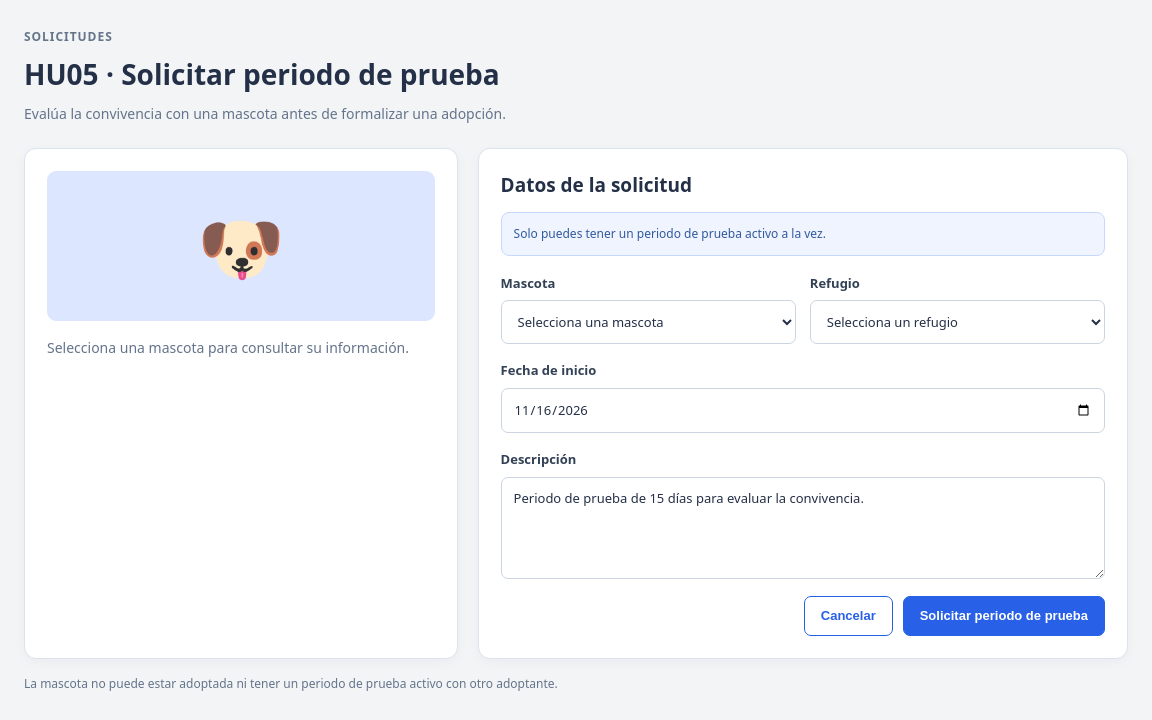
TrialRequestPage › muestra un error si no hay un usuario adoptante configurado
Expected: the heading "Datos de la solicitud" is shown, [501, 172, 692, 198]
Select "Rocky" in the dropdown labelled "Mascota" at (648, 322), box [501, 300, 796, 344]
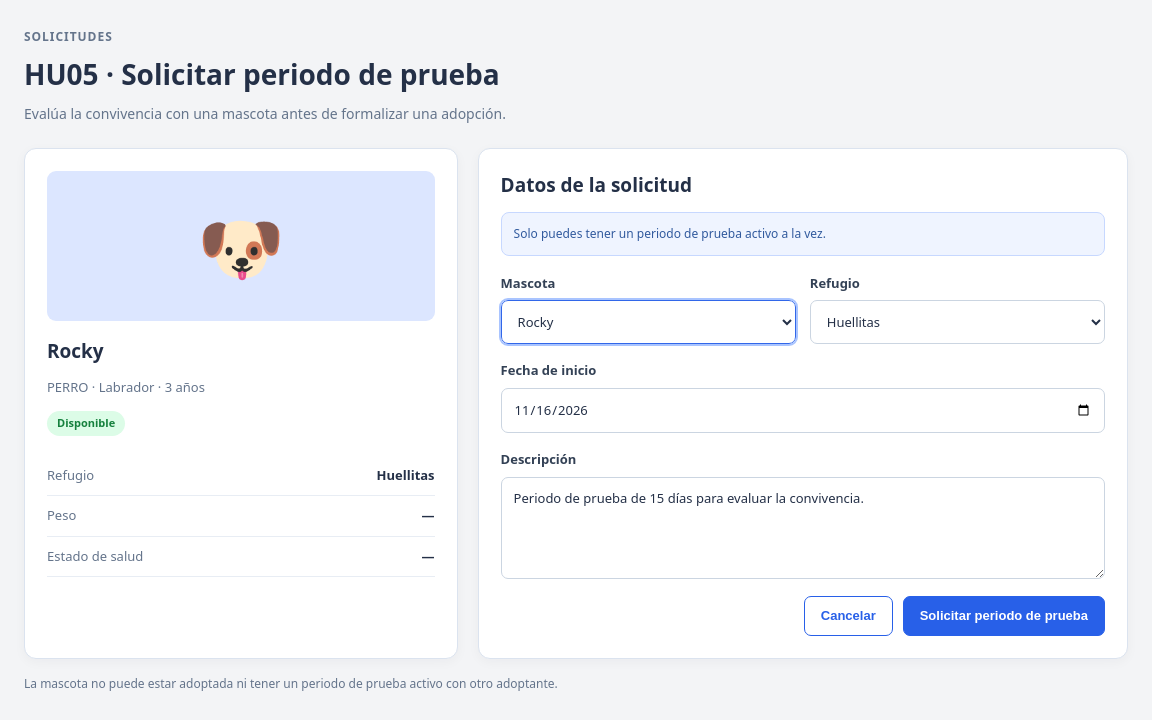
Select "Huellitas" in the dropdown labelled "Refugio" at (957, 322), box [810, 300, 1105, 344]
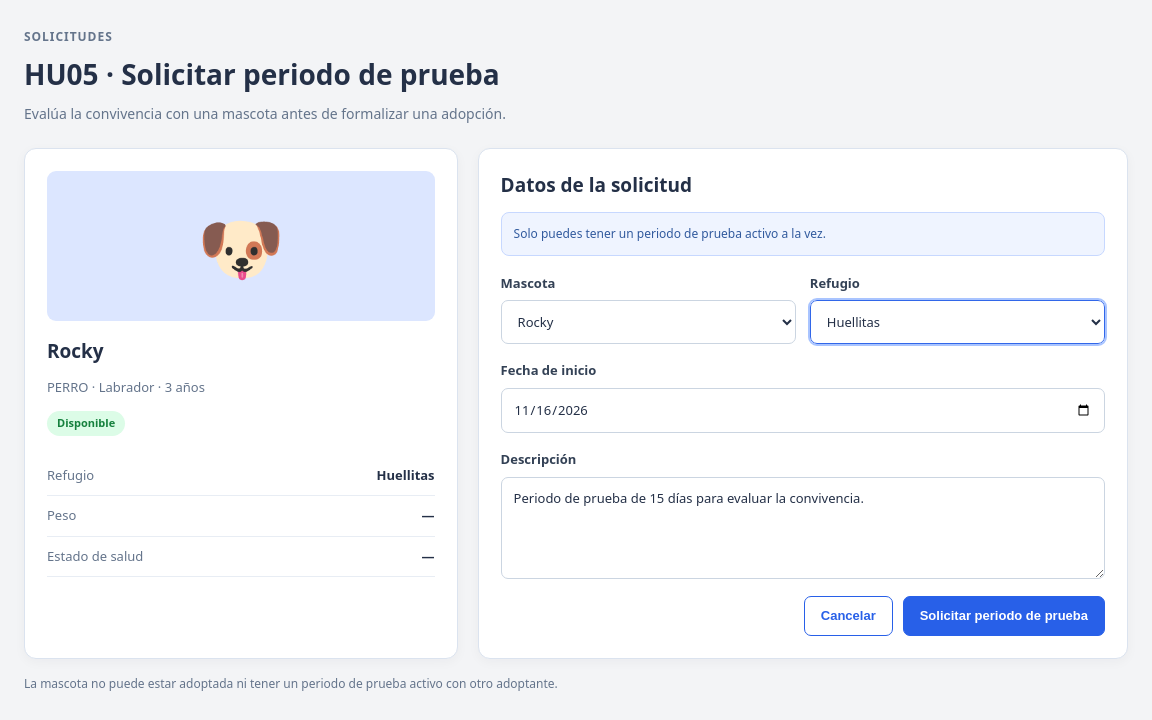
Click the button "Solicitar periodo de prueba".
click(1004, 616)  # box [903, 596, 1105, 636]
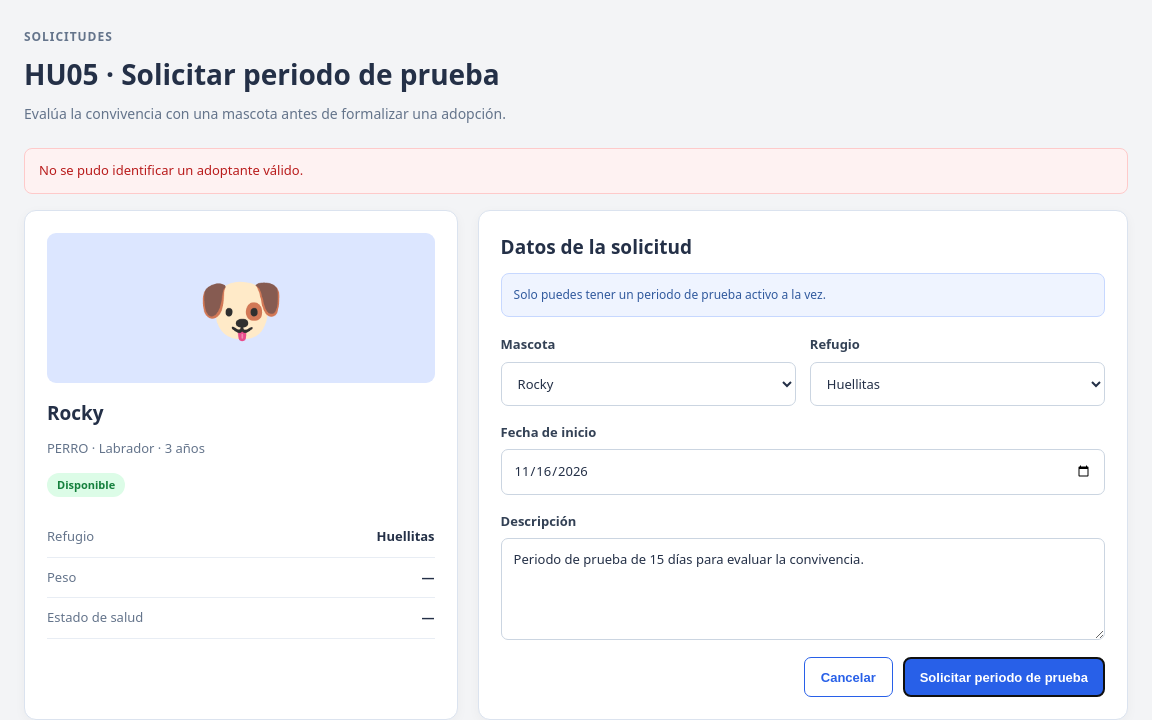
Result: the message "No se pudo identificar un adoptante válido." is shown at [24, 148, 1128, 194]
